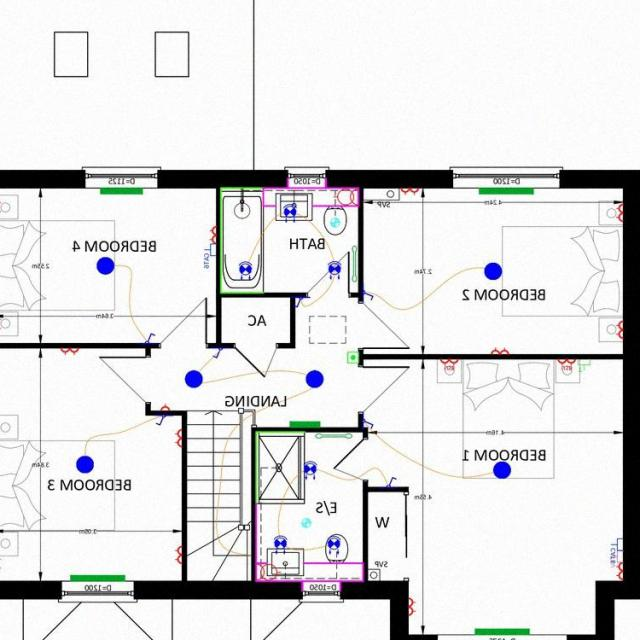Cat 6 Data Socket: (204, 243, 217, 268), (612, 537, 624, 562)
Ceiling Mounted Continuous Extract FanWith Boost Mode Activated By Light Switch: (331, 217, 341, 227), (303, 517, 312, 527)
Co-Ax TV Socket: (611, 550, 624, 566)
Double Socket: (616, 320, 624, 338), (616, 562, 625, 578), (175, 428, 183, 446), (60, 347, 80, 354), (401, 187, 420, 194), (617, 203, 624, 222), (492, 346, 511, 353), (410, 598, 417, 616), (175, 545, 182, 563), (210, 225, 217, 242), (0, 314, 3, 332), (0, 554, 3, 572), (0, 197, 2, 215)
Full Height Tiling: (221, 187, 263, 293), (257, 430, 305, 503)
Light Switch: (212, 346, 225, 358), (386, 476, 398, 486), (156, 415, 168, 425), (146, 332, 157, 342), (364, 290, 374, 300), (364, 418, 374, 428), (296, 296, 304, 306)
Low Energy Downlighter: (284, 203, 298, 222), (239, 260, 253, 279), (328, 534, 341, 554), (275, 534, 288, 553), (329, 260, 342, 278), (306, 460, 318, 479)
Low Energy Pendant Light: (185, 368, 204, 388), (484, 261, 504, 279), (306, 370, 324, 388), (494, 461, 512, 479), (77, 455, 95, 473), (98, 255, 114, 274)
Programmable Room Thermostat: (348, 350, 360, 362)
Radiator: (475, 627, 530, 635), (480, 187, 534, 194), (71, 574, 125, 581), (101, 187, 143, 194), (291, 421, 321, 426)
Shaver Socket: (335, 188, 359, 204), (258, 564, 282, 580)
Single Socket: (162, 403, 171, 410)
Telephone Socket: (578, 358, 592, 372)
USB Double Socket: (557, 358, 577, 369), (441, 358, 459, 369)
